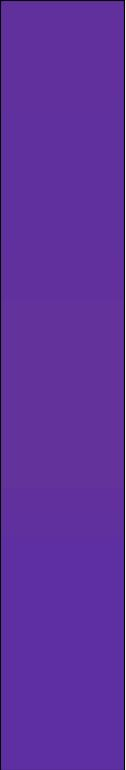safe: (6, 11, 118, 759)
